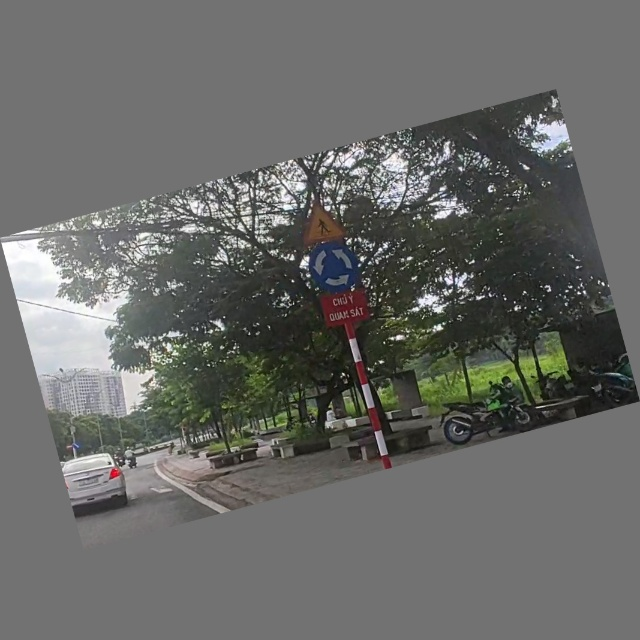P.102: (65, 443, 75, 452)
R.302a: (73, 442, 82, 451)
R.303: (303, 238, 368, 299)
W.224: (294, 196, 350, 248)
